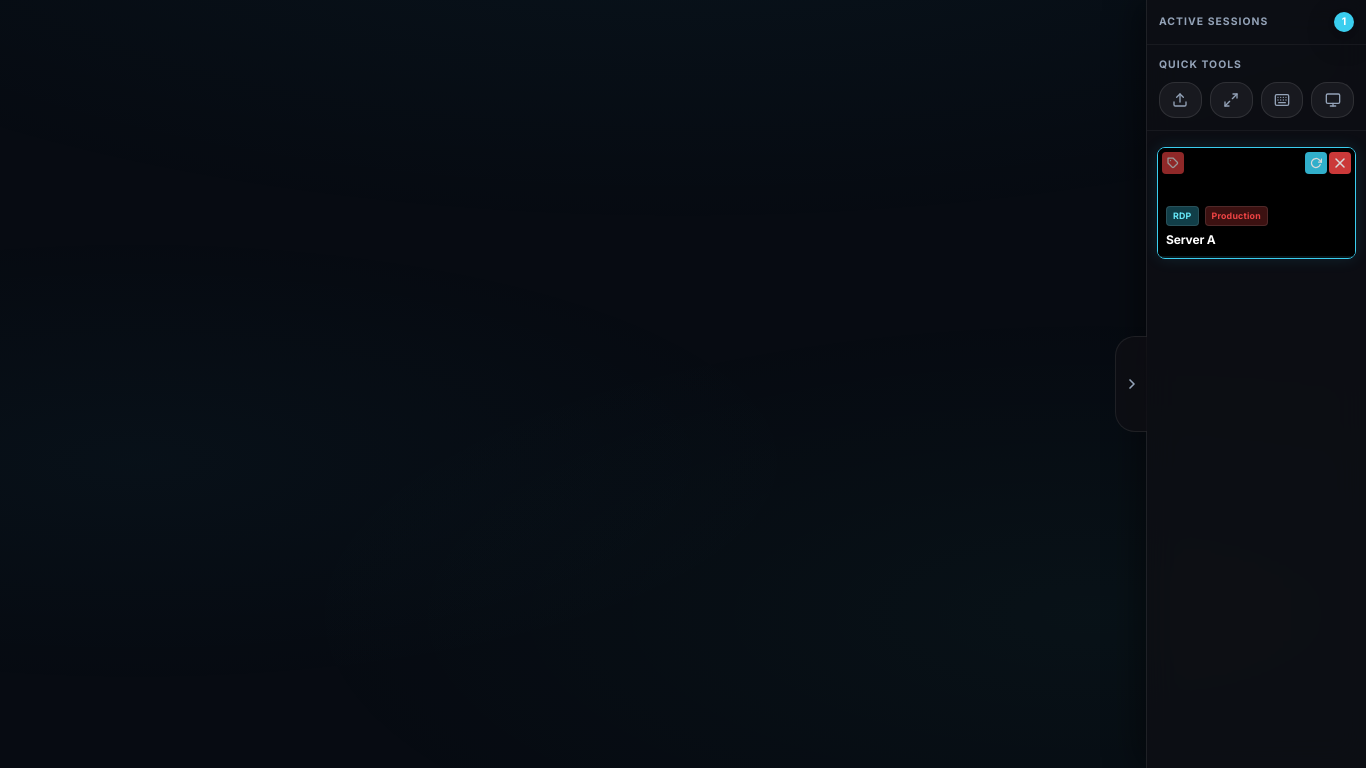
SessionBar › shows "No tags created yet" when user has no tags
The image size is (1366, 768).
Click the button titled "Set display tag".
click(1173, 163)  # box [1162,152,1184,174]
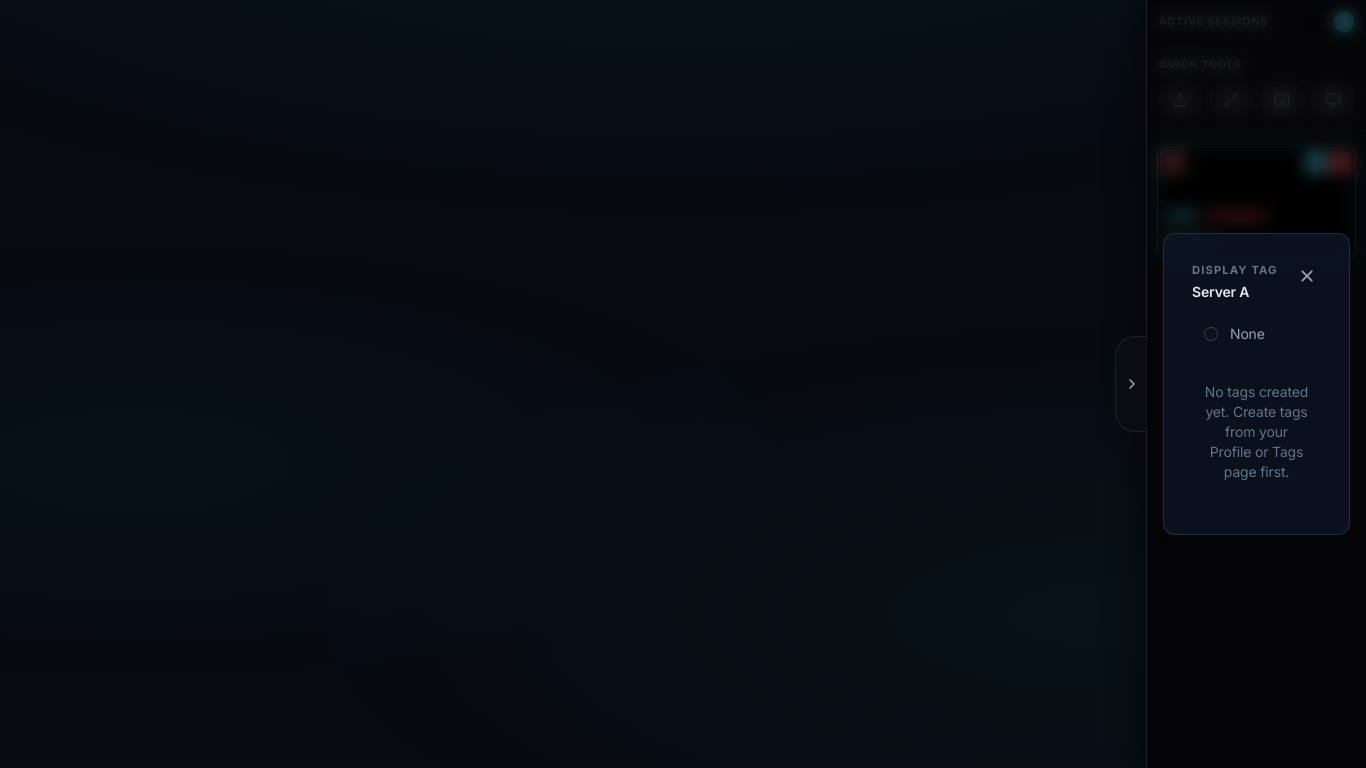
Check: the text "No tags created yet" is shown, box [1205,383,1308,480]
